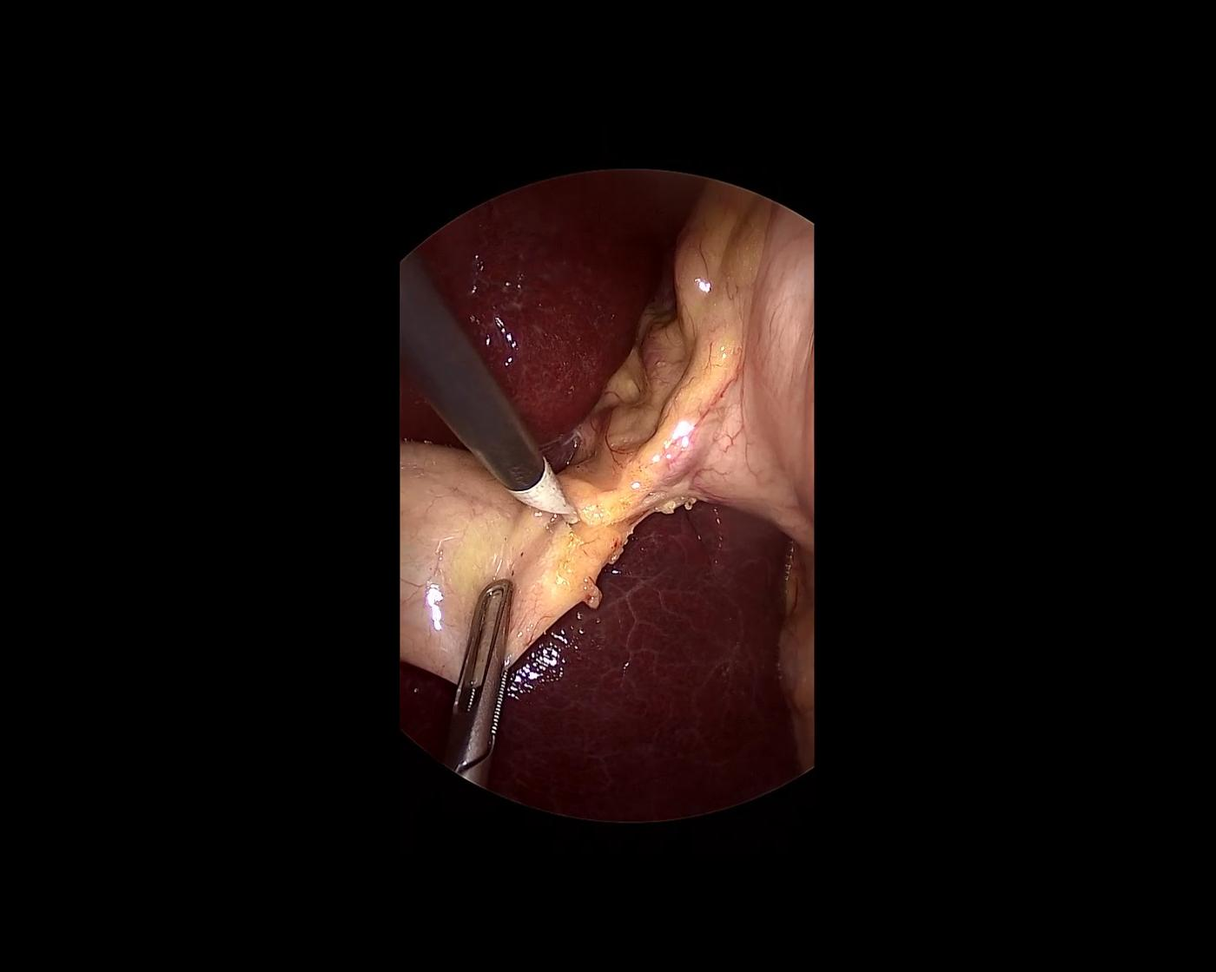Cautery: (353, 253, 580, 556)
Forceps: (439, 574, 526, 787)
Gallbladder: (391, 436, 663, 694)
Liver: (390, 499, 799, 831), (397, 169, 677, 474)
